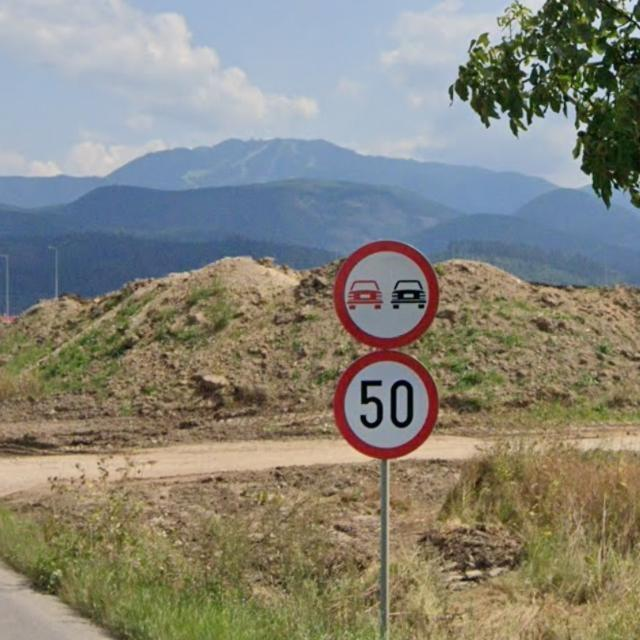forb_overtake: (332, 237, 440, 347)
forb_speed_over_50: (331, 349, 438, 460)
